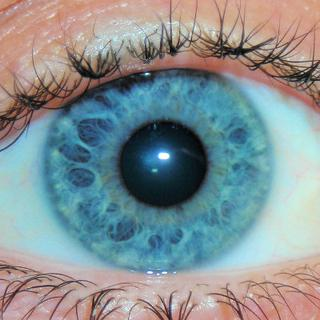pupil: (121, 121, 208, 208)
